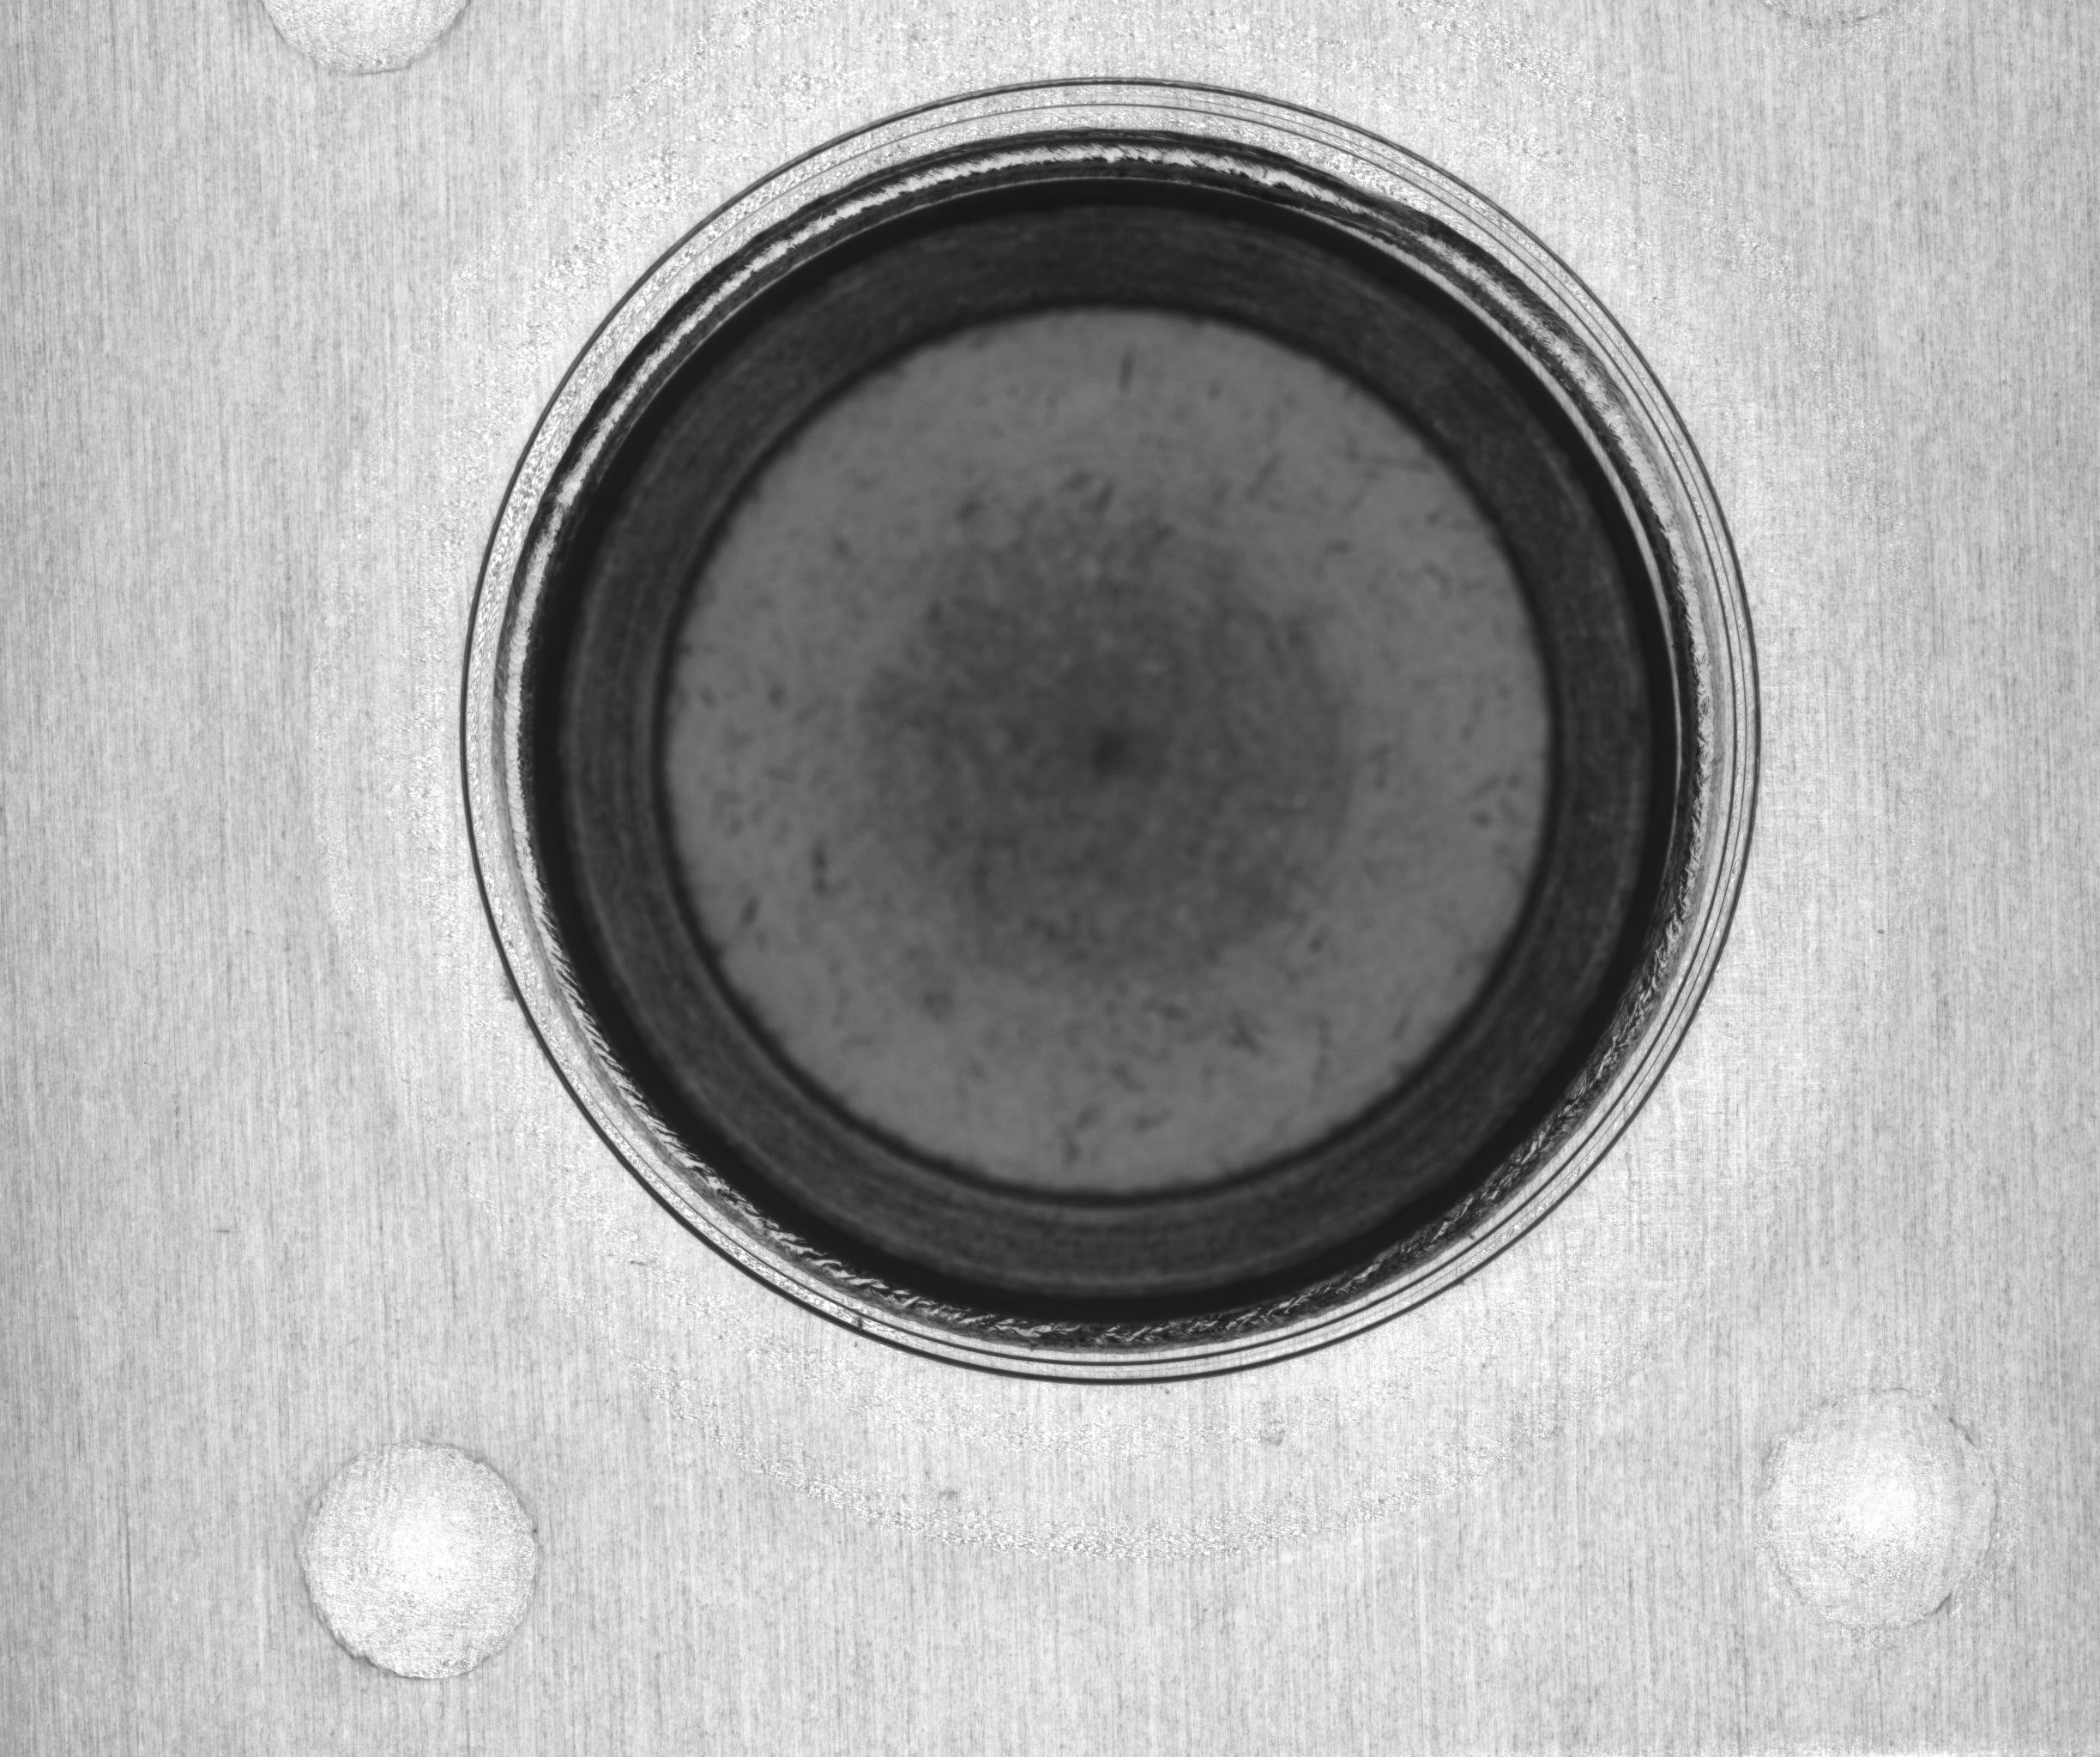coveriswrong: (518, 140, 1713, 1340)
